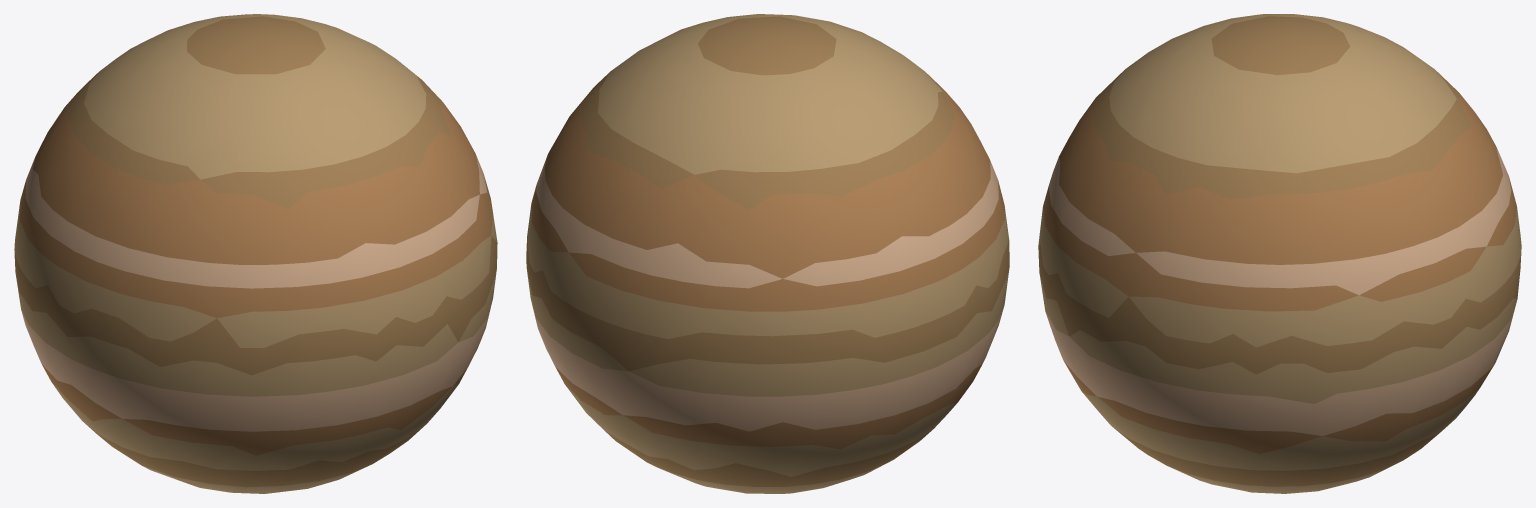
File: quaternius-ultimate-space-pack-planet-6-transformed.glb
The picture shows the model from 3 angles, left to right: view 1: azimuth 30°, elevation 25°; view 2: azimuth 150°, elevation 25°; view 3: azimuth 270°, elevation 25°; orthographic projection.
Parts seen in each view (by area): view 1: Planet_6; view 2: Planet_6; view 3: Planet_6.
Boxes of the visible parts, x1,y1,x2,y2 form: Planet_6: (14,14,497,493); Planet_6: (526,14,1009,493); Planet_6: (1038,14,1521,493).
Size of the model in its own units: 3.76 by 3.75 by 3.76.
Materials: 1 (1 with a texture image).
